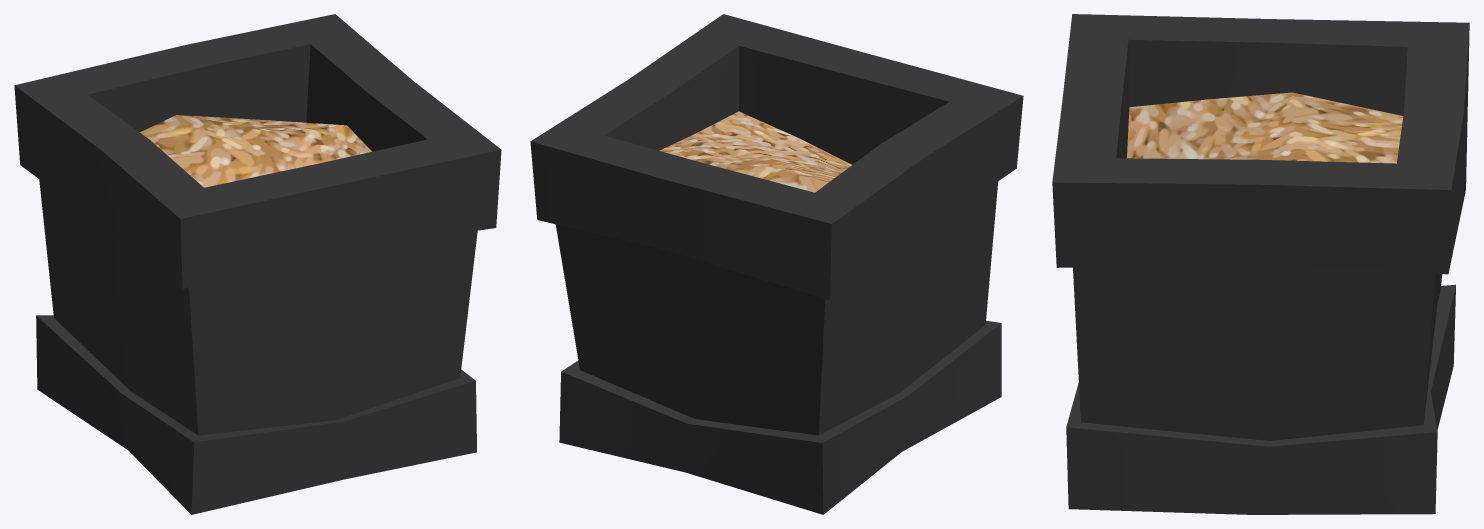
Rendered from SM_PROP_box_03.FBX.
The picture shows the model from 3 angles, left to right: view 1: azimuth 30°, elevation 25°; view 2: azimuth 150°, elevation 25°; view 3: azimuth 270°, elevation 25°; orthographic projection. The views are drawn at different scales.
Parts seen in each view (by area): view 1: SM_PROP_box_03; view 2: SM_PROP_box_03; view 3: SM_PROP_box_03.
Boxes of the visible parts, x1,y1,x2,y2 form: SM_PROP_box_03: [14, 14, 501, 514]; SM_PROP_box_03: [530, 14, 1023, 514]; SM_PROP_box_03: [1052, 14, 1469, 514].
Size of the model in its own units: 94.41 by 94.59 by 84.5.
